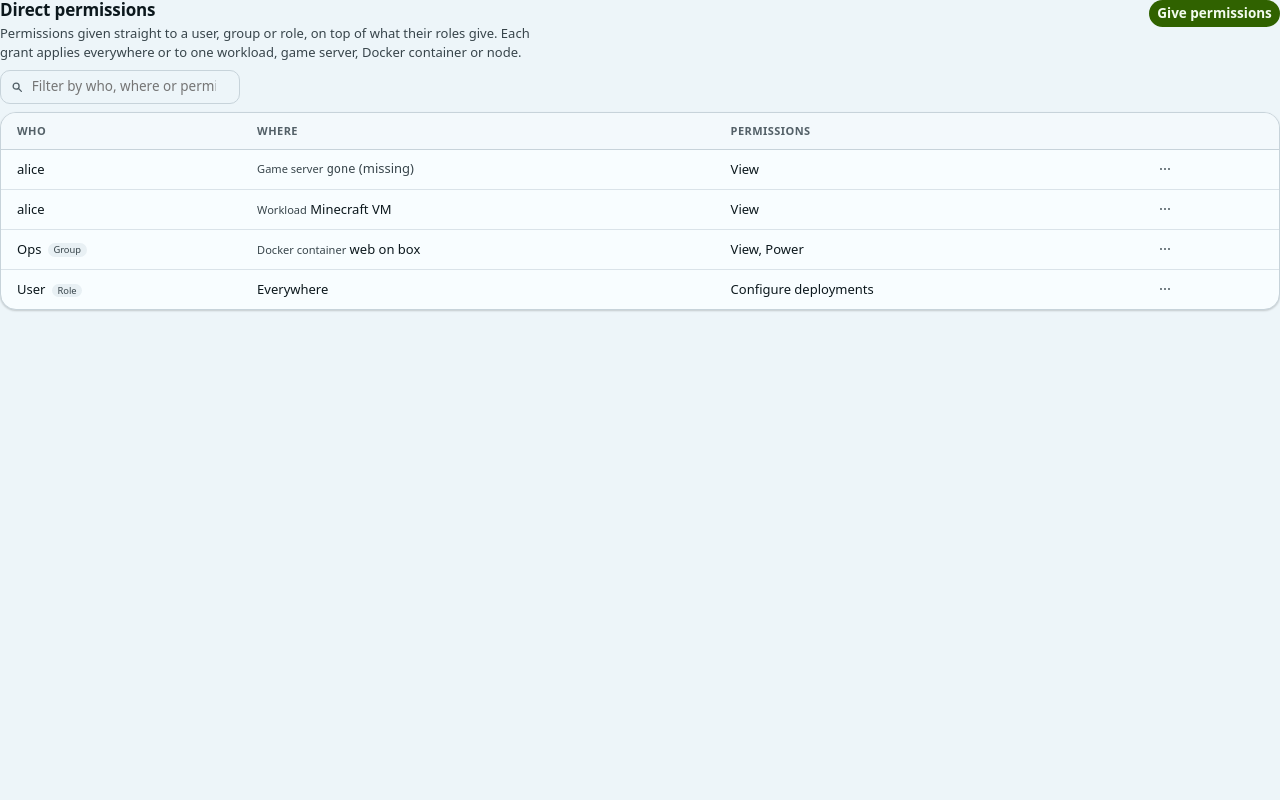
Test: ItemAccessPanel › shows Everything to a SuperAdmin, with a warning
Expected: the table is shown, [1,113,1279,309]
Click the button "Give permissions" at (1215, 14), box [1149,0,1279,27]
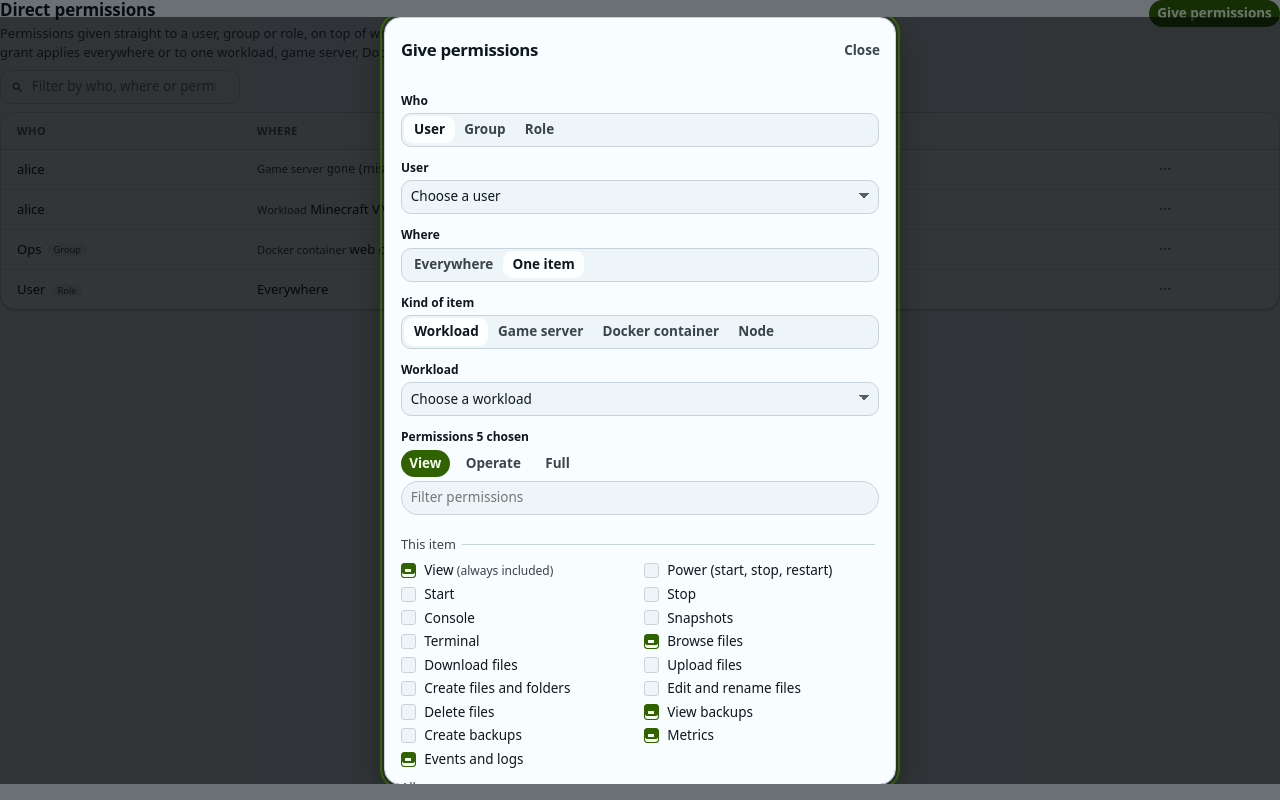
Click the button "Everywhere" at (454, 265), box [404,251,503,278]
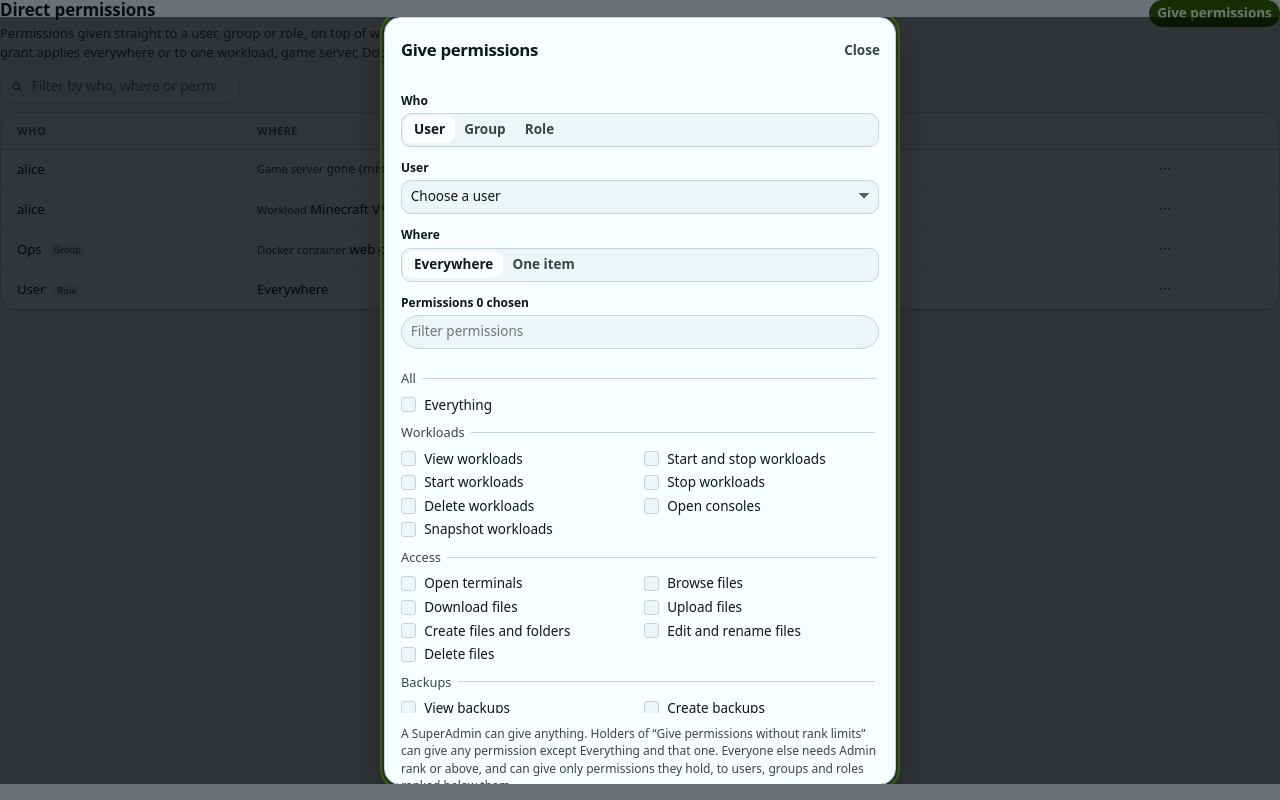
Click the checkbox labelled "Everything" at (409, 405), box [401,397,416,412]
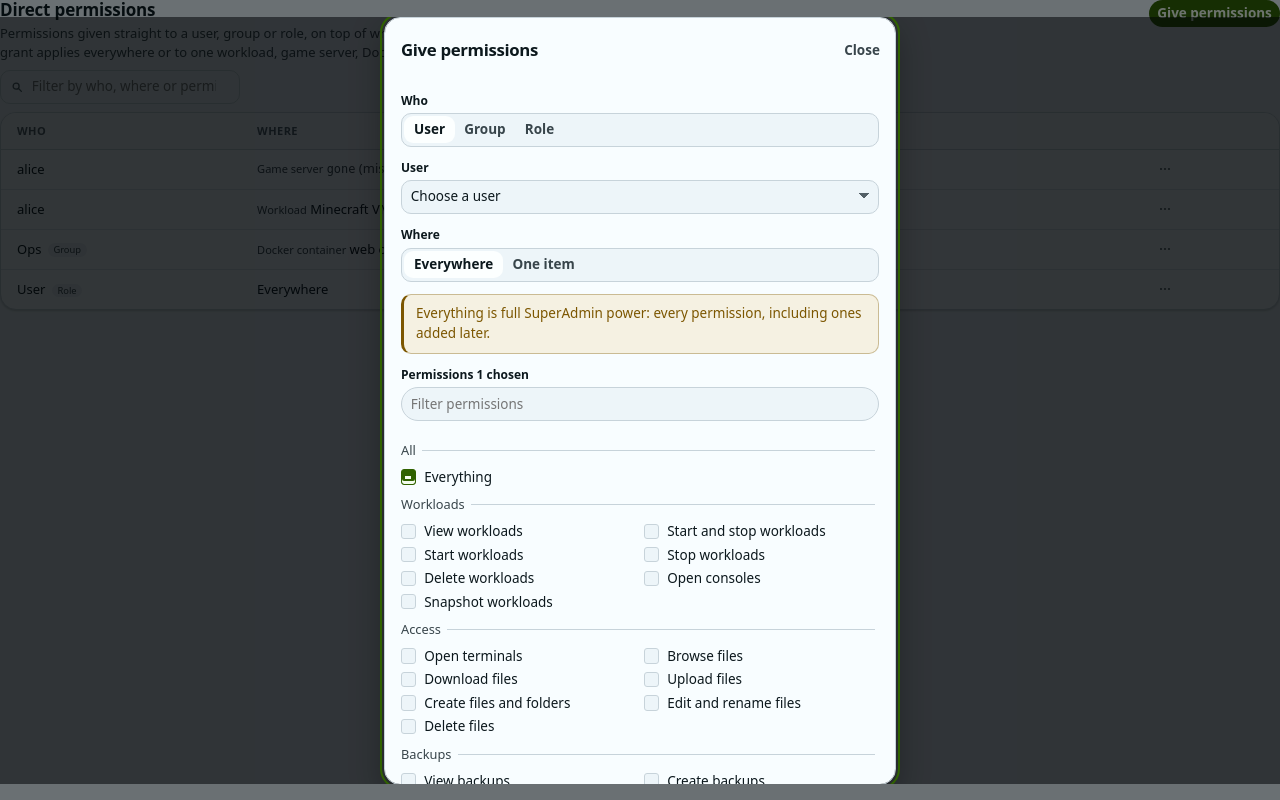
Expected: the text "full SuperAdmin power" is shown, [416,304,646,322]
